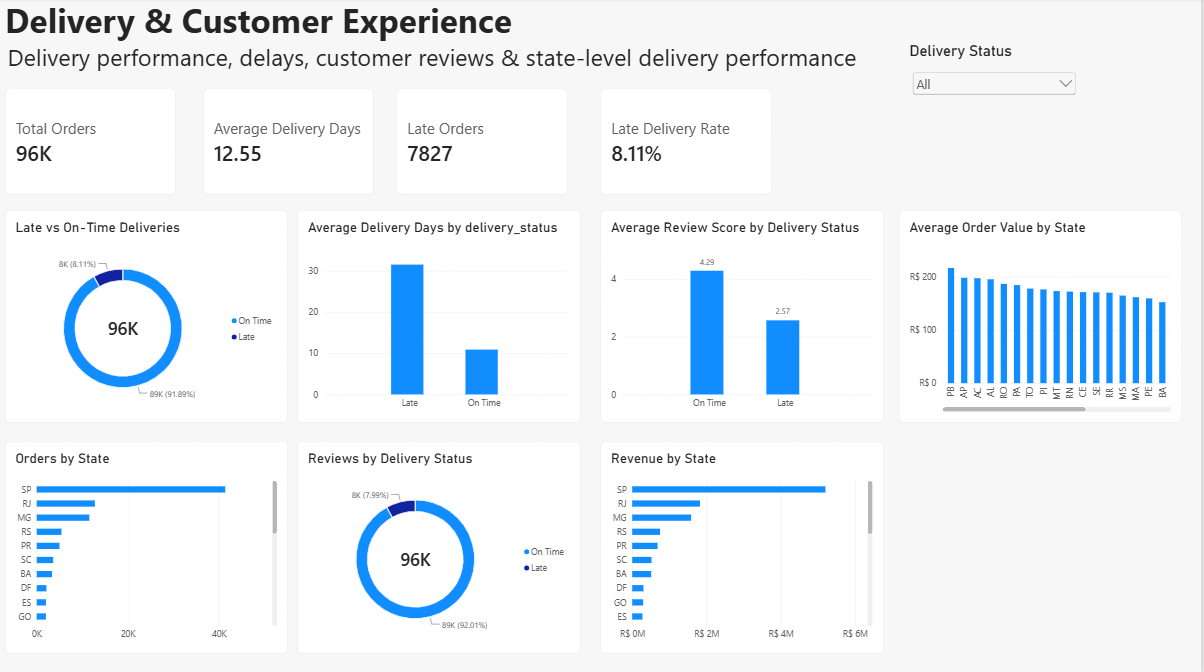

What the dashboard file says about the page in this screenshot:
{"tool":"powerbi","page":{"name":"Delivery & Customer Experience","canvas":[1920,1080],"ordinal":2},"visuals":[{"type":"textbox","box":[10,0,1385,145],"z":0},{"type":"cardVisual","fields":{"Data":["Sum(public vw_delivery_performance.orders)"]},"box":[9.6,146.2,273,170],"z":1000},{"type":"cardVisual","fields":{"Data":["public vw_delivery_performance.Average Delivery Days"]},"box":[325.9,146.2,273,170],"z":2000},{"type":"cardVisual","fields":{"Data":["public vw_delivery_performance.Late Orders"]},"box":[635.1,146.2,273,170],"z":3000},{"type":"cardVisual","fields":{"Data":["public vw_delivery_performance.Late Delivery Rate"]},"box":[961,146.2,273,170],"z":4000},{"type":"donutChart","title":"Late vs On-Time Deliveries","fields":{"Category":["public vw_delivery_performance.delivery_status"],"Y":["Sum(public vw_delivery_performance.orders)"]},"box":[9.6,340.3,452,340],"z":5000},{"type":"clusteredColumnChart","fields":{"Category":["public vw_delivery_performance.delivery_status"],"Y":["public vw_delivery_performance.Average Delivery Days"]},"box":[476.9,340.3,452,340],"z":6000},{"type":"clusteredColumnChart","title":"Average Review Score by Delivery Status","fields":{"Category":["public vw_delivery_reviews.delivery_status"],"Y":["Avg(public vw_delivery_reviews.average_review_score)"]},"box":[961,340.3,452,340],"z":7000},{"type":"donutChart","title":"Reviews by Delivery Status","fields":{"Category":["public vw_delivery_reviews.delivery_status"],"Y":["Sum(public vw_delivery_reviews.reviews)"]},"box":[476.9,709.4,452,340],"z":8000},{"type":"clusteredBarChart","title":"Revenue by State","fields":{"Category":["public vw_state_performance.state"],"Y":["Sum(public vw_state_performance.revenue)"]},"box":[961,709.4,452,340],"z":9000},{"type":"clusteredColumnChart","title":"Average Order Value by State","fields":{"Category":["public vw_state_performance.state"],"Y":["Avg(public vw_state_performance.average_order_value)"]},"box":[1437.9,340.3,452,340],"z":10000},{"type":"clusteredBarChart","title":"Orders by State","fields":{"Category":["public vw_state_performance.state"],"Y":["Sum(public vw_state_performance.orders)"]},"box":[9.6,709.4,452,340],"z":11000},{"type":"slicer","title":"Delivery Status","fields":{"Values":["public vw_delivery_performance.delivery_status"]},"box":[1455,72.5,270,125],"z":12000}]}

Visuals, with their boxes in screenshot pixels (x1, y1, x2, y2), scaled from the page's 1920x1080 canvas onto the 1204x672 screenshot:
textbox: locate(6, 0, 875, 90)
cardVisual - Sum(public vw_delivery_performance.orders): locate(6, 91, 177, 197)
cardVisual - public vw_delivery_performance.Average Delivery Days: locate(204, 91, 376, 197)
cardVisual - public vw_delivery_performance.Late Orders: locate(398, 91, 569, 197)
cardVisual - public vw_delivery_performance.Late Delivery Rate: locate(603, 91, 774, 197)
"Late vs On-Time Deliveries" donutChart: locate(6, 212, 289, 423)
clusteredColumnChart - public vw_delivery_performance.delivery_status x public vw_delivery_performance.Average Delivery Days: locate(299, 212, 582, 423)
"Average Review Score by Delivery Status" clusteredColumnChart: locate(603, 212, 886, 423)
"Reviews by Delivery Status" donutChart: locate(299, 441, 582, 653)
"Revenue by State" clusteredBarChart: locate(603, 441, 886, 653)
"Average Order Value by State" clusteredColumnChart: locate(902, 212, 1185, 423)
"Orders by State" clusteredBarChart: locate(6, 441, 289, 653)
"Delivery Status" slicer: locate(912, 45, 1082, 123)
